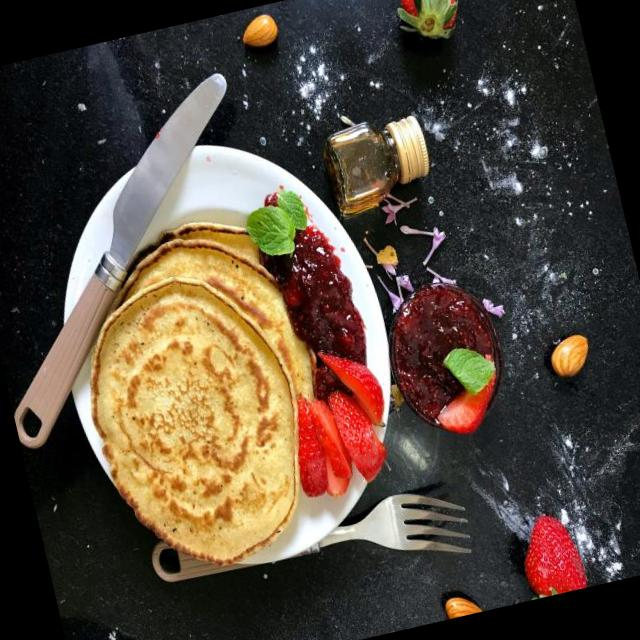Knife: (14, 74, 228, 449)
